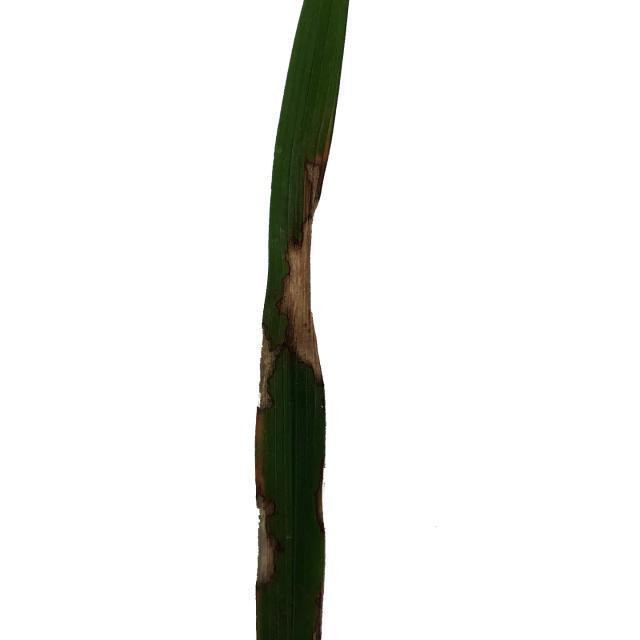Bacterial_Leaf_Blight: (269, 150, 322, 377), (254, 500, 276, 585)
